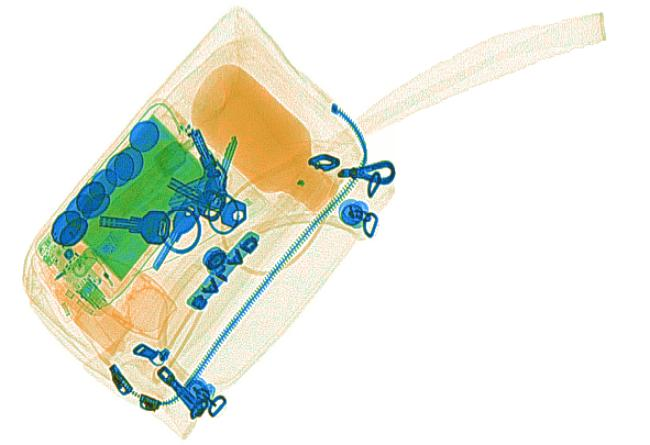plasticBottleWithaNozzle: (36, 258, 134, 357)
